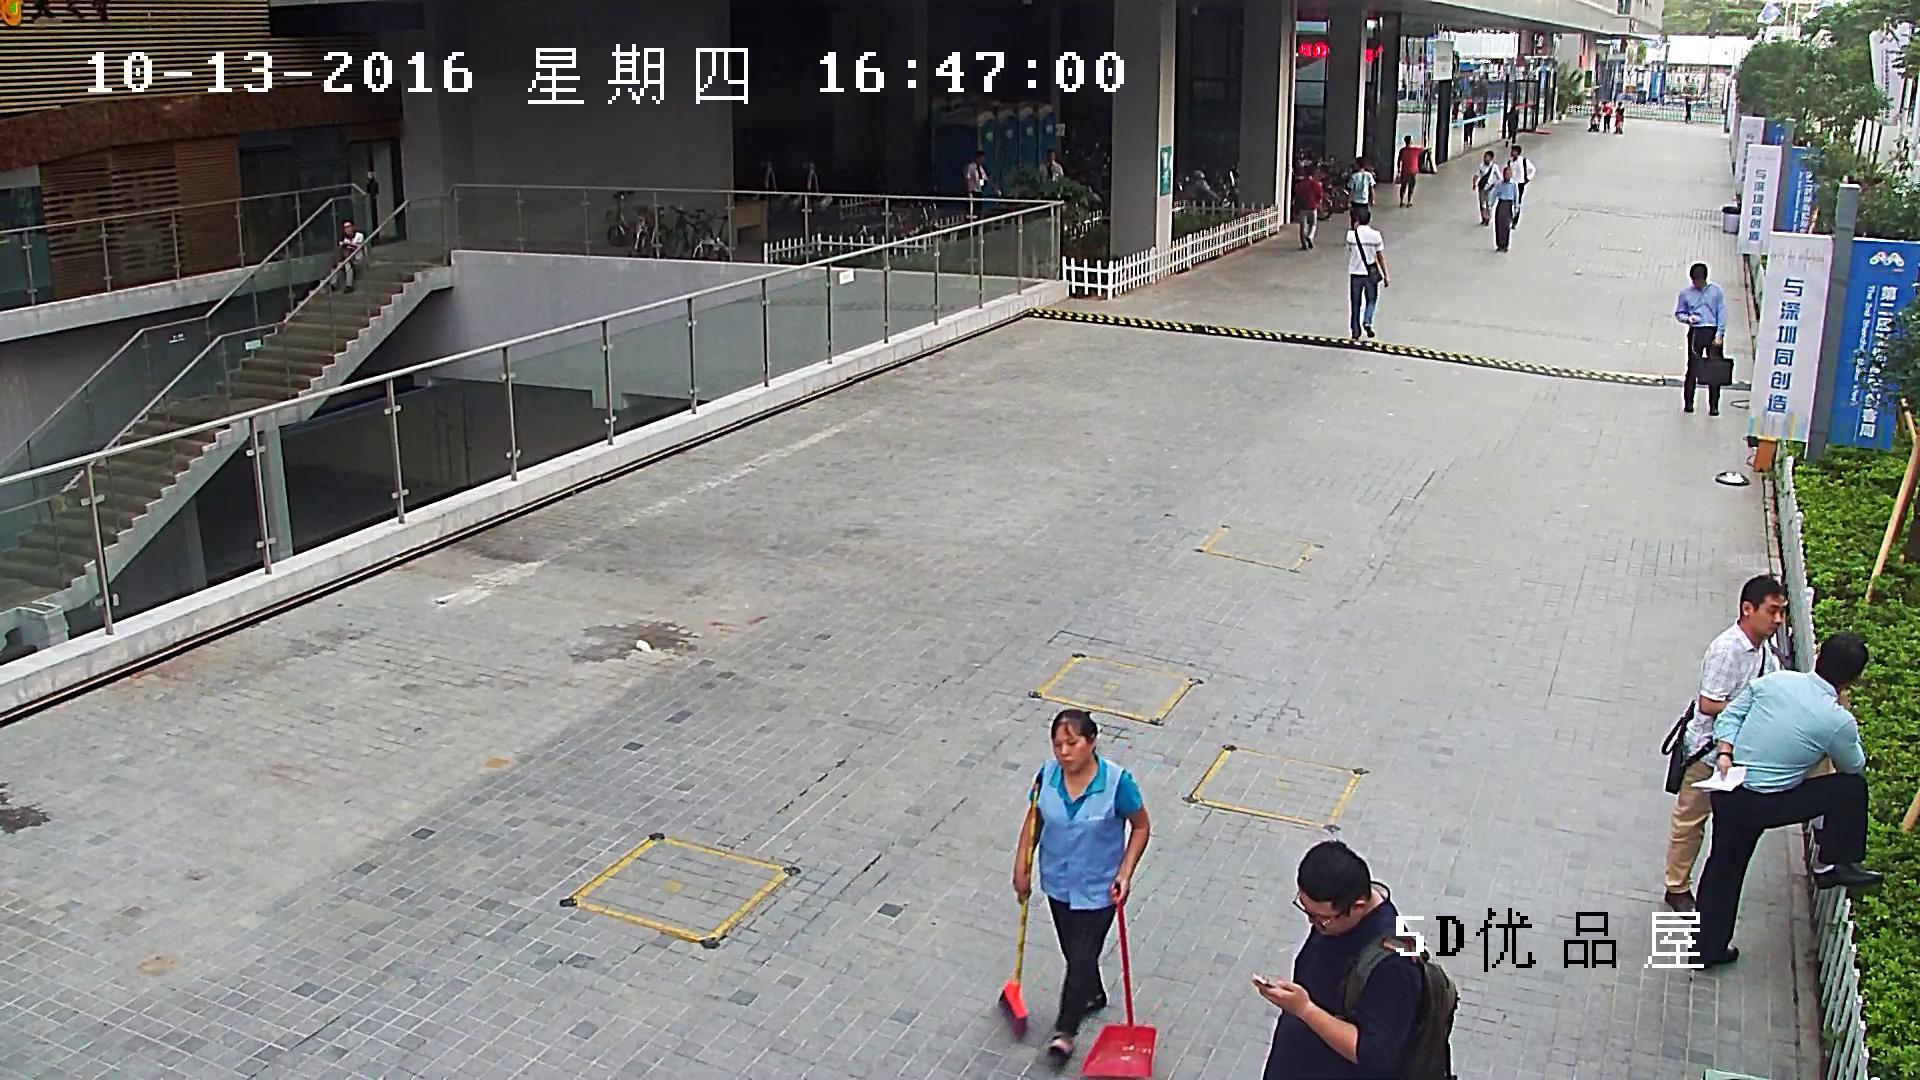person: (1685, 634, 1886, 968), (996, 705, 1158, 1080), (1660, 575, 1832, 917), (1250, 840, 1458, 1080), (1014, 708, 1148, 1058), (1674, 262, 1734, 416), (1675, 262, 1727, 415), (1346, 210, 1389, 339), (328, 219, 368, 293), (1487, 166, 1521, 251), (1504, 145, 1535, 228), (1294, 166, 1322, 249), (1472, 151, 1501, 225), (1395, 134, 1424, 207), (1346, 160, 1375, 229), (963, 151, 989, 211), (1038, 149, 1063, 180), (1463, 106, 1475, 145), (1505, 107, 1517, 147), (1614, 102, 1623, 133), (1602, 101, 1611, 132)
